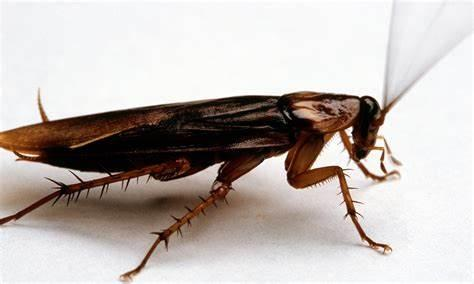cockroach: (1, 84, 409, 219)
